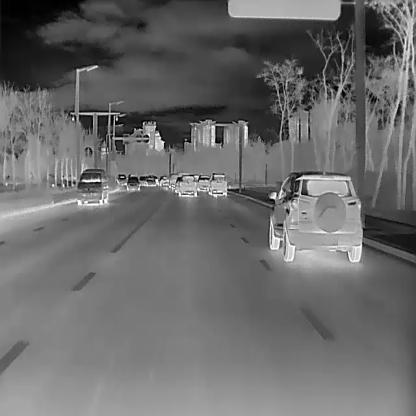car: (268, 170, 362, 261), (75, 168, 108, 206), (208, 171, 227, 195), (178, 173, 196, 195), (126, 175, 140, 190), (197, 173, 209, 190), (116, 172, 126, 184), (146, 174, 156, 185), (159, 175, 169, 186), (174, 176, 180, 192), (138, 175, 146, 185)
